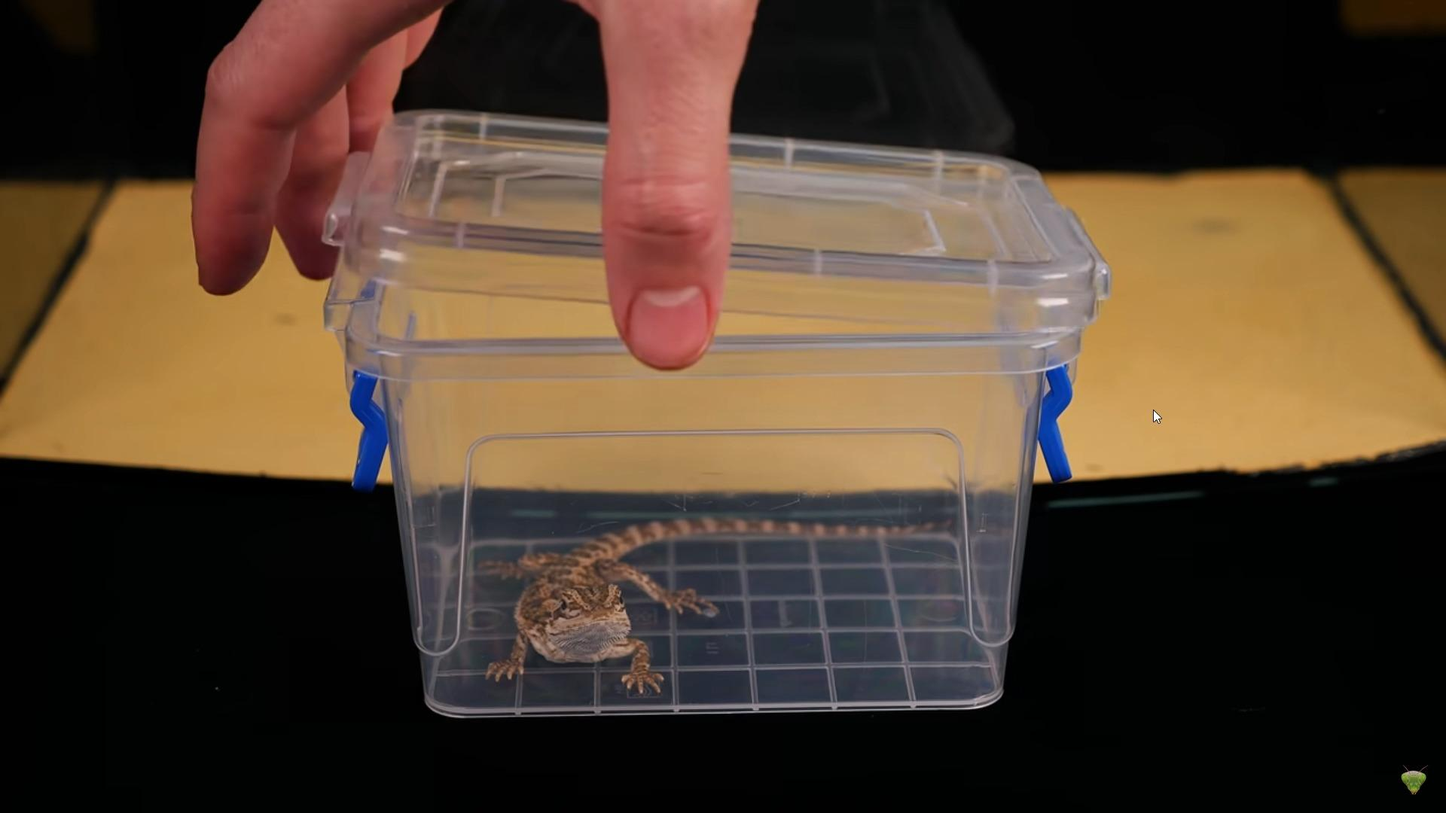lizard: (466, 507, 954, 699)
